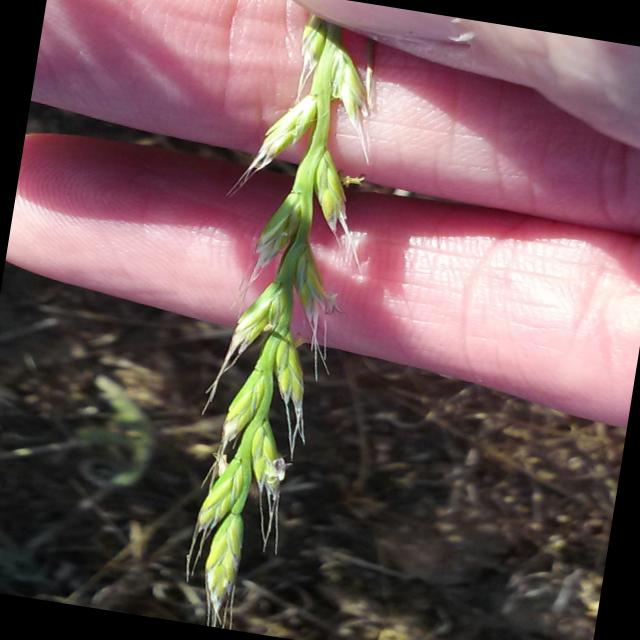Lolium: (160, 4, 396, 637)
